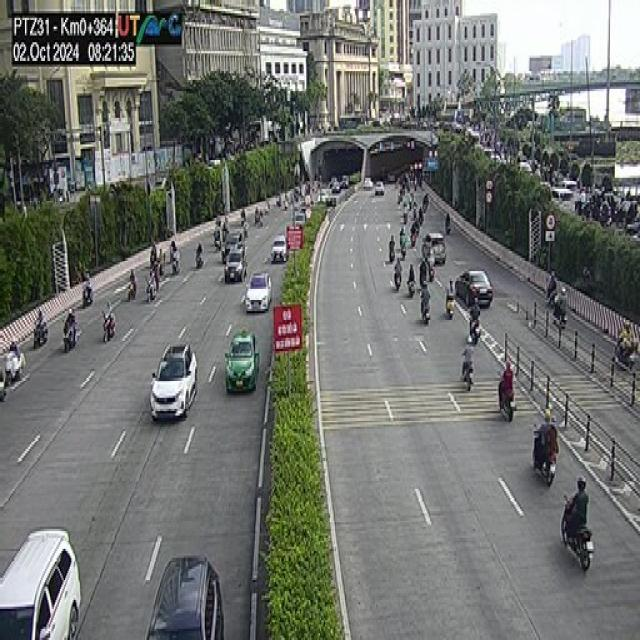car: (0, 529, 80, 640), (146, 557, 228, 640), (153, 341, 198, 422), (224, 334, 260, 397), (456, 266, 492, 306), (245, 268, 271, 314), (424, 225, 448, 262), (224, 249, 246, 286), (270, 238, 291, 268), (225, 230, 242, 266), (329, 177, 344, 197), (319, 188, 332, 210), (374, 178, 386, 201)
motorcycle: (560, 504, 598, 560), (530, 430, 556, 478), (495, 375, 515, 422), (615, 338, 637, 372), (459, 356, 474, 399), (61, 327, 81, 359), (7, 352, 27, 383), (101, 321, 122, 350), (550, 308, 570, 337), (539, 293, 563, 317), (441, 294, 457, 328), (469, 315, 484, 348), (32, 327, 54, 349), (79, 293, 99, 315), (417, 301, 431, 329), (155, 256, 171, 279), (390, 269, 403, 297), (168, 262, 185, 282), (125, 286, 142, 304), (411, 236, 424, 259), (428, 264, 440, 288), (407, 280, 418, 305), (440, 220, 455, 235), (148, 286, 160, 303), (385, 248, 398, 262), (195, 250, 205, 268), (0, 380, 8, 402), (398, 242, 410, 256), (418, 271, 429, 282), (215, 236, 224, 249)
person: (568, 475, 588, 537), (500, 362, 516, 407), (616, 324, 636, 357), (459, 341, 475, 374), (469, 300, 483, 336), (540, 414, 550, 462), (6, 327, 18, 365), (548, 410, 558, 455), (444, 278, 457, 311), (148, 226, 159, 262), (36, 300, 46, 336), (80, 269, 94, 294), (234, 207, 246, 236), (168, 230, 181, 254), (388, 230, 399, 258), (418, 256, 430, 281), (422, 276, 431, 308), (105, 296, 114, 327), (557, 274, 563, 320), (546, 267, 554, 300), (66, 298, 74, 330), (563, 271, 569, 313), (215, 208, 223, 237), (408, 256, 417, 281), (148, 265, 159, 285), (396, 223, 406, 244), (128, 262, 136, 285), (410, 216, 418, 236), (197, 238, 205, 256), (0, 364, 6, 388), (392, 258, 400, 273), (445, 208, 454, 219)
truck: (292, 208, 305, 235)
